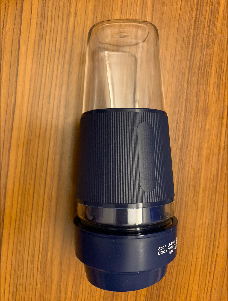Nonfood: (82, 24, 180, 280)
